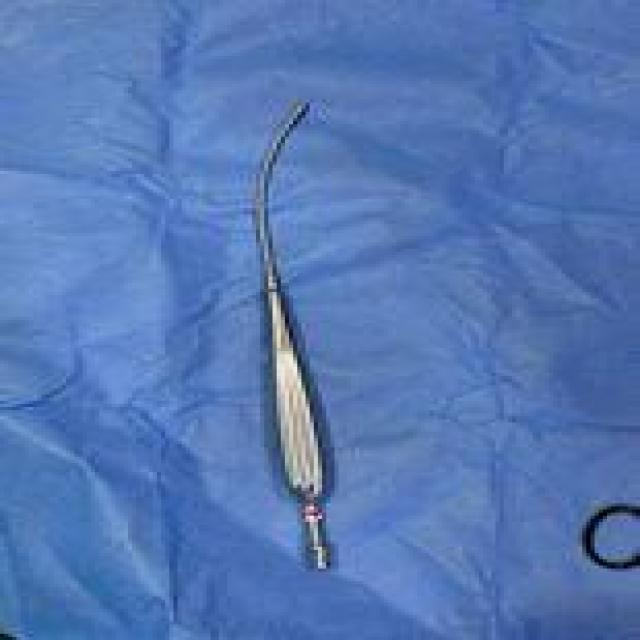Yankauer: (248, 99, 338, 578)
